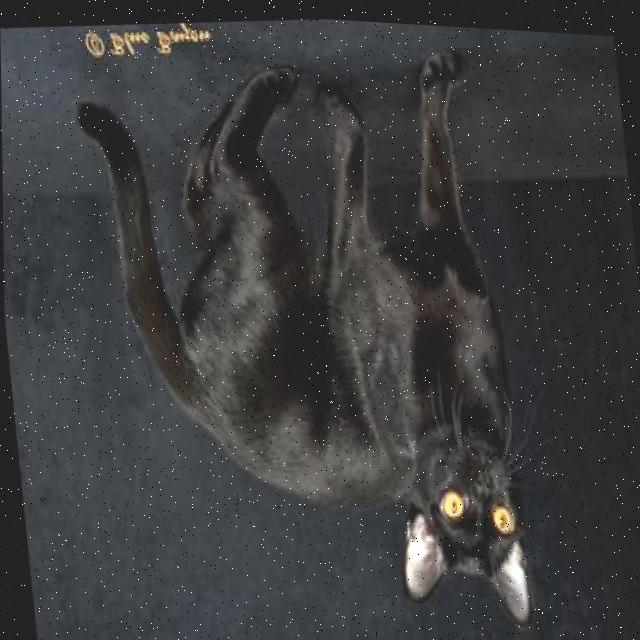Bombay: (61, 12, 538, 640)
